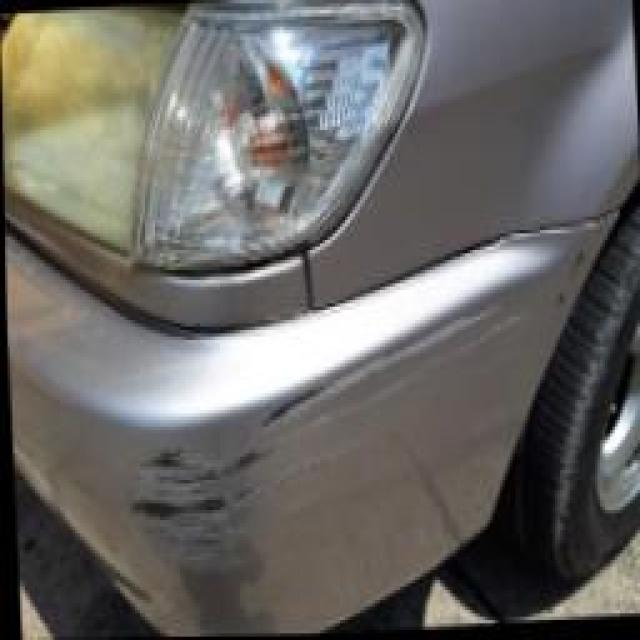Bumper: (45, 293, 541, 624)
Fender: (420, 0, 640, 247)
